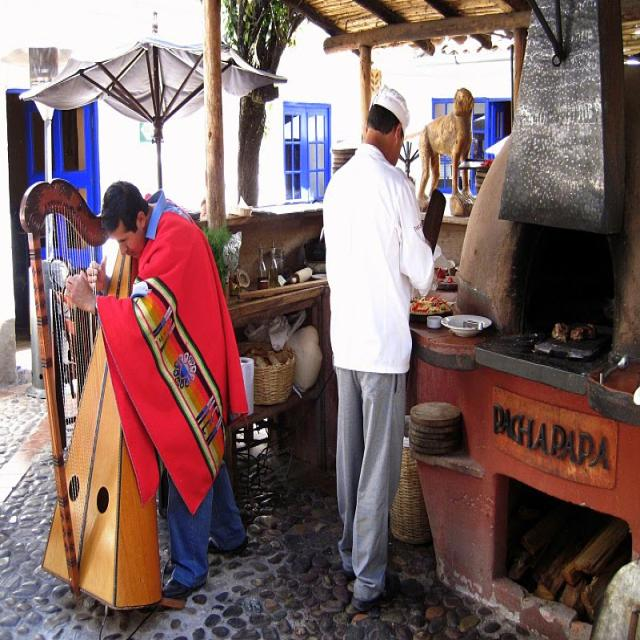harp: (19, 176, 164, 607)
